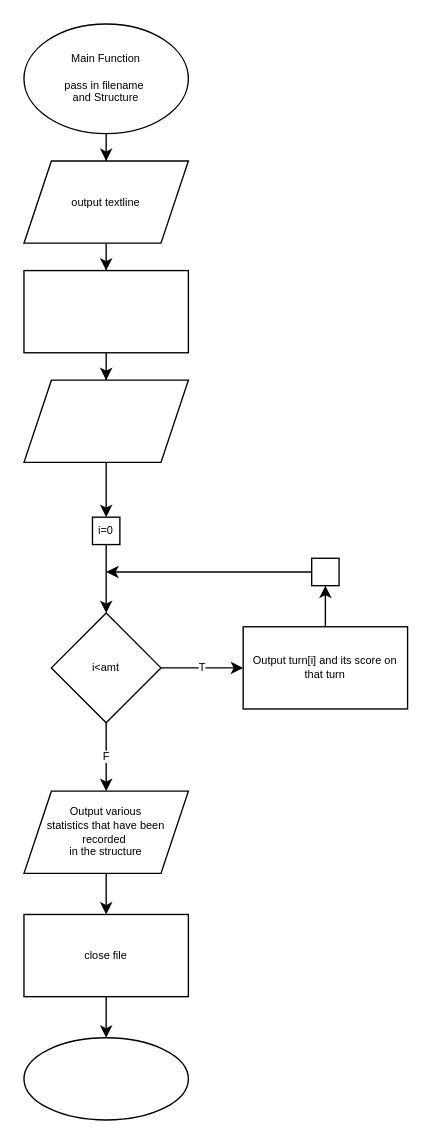
Image size: 432x1144. Some labels were removed from this diagram. Here are the shapes that lost their labels. From the top down, the centre of each, then its label:
At point 105,311: "open binary file".
At point 105,420: "output text".
At point 324,571: "i++".
At point 105,1078: "void function".
